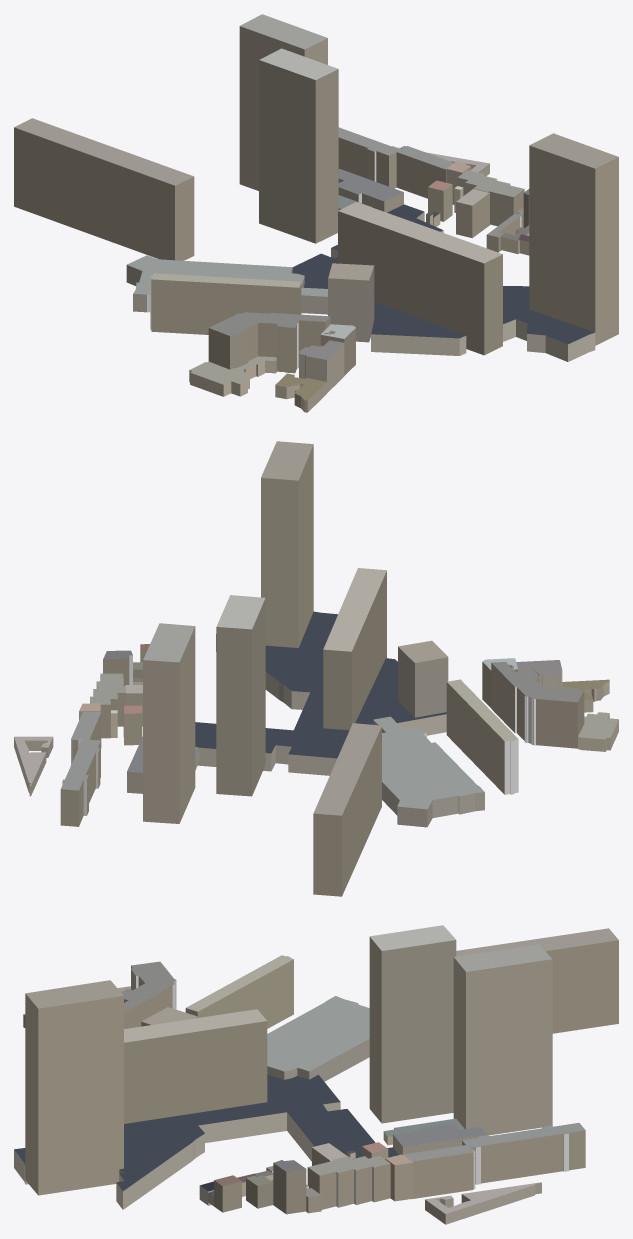
3 renders of one model, top to bottom at view 1: azimuth 30°, elevation 25°; view 2: azimuth 150°, elevation 25°; view 3: azimuth 270°, elevation 25°, orthographic. The views are drawn at different scales.
Parts seen in each view (by area): view 1: tuile; view 2: tuile; view 3: tuile.
Boxes of the visible parts, box(x1,y1,x2,y2) form: tuile: box(14, 14, 618, 412); tuile: box(14, 441, 618, 896); tuile: box(14, 925, 618, 1224).
Size of the model in its own units: 278 by 109 by 313.
